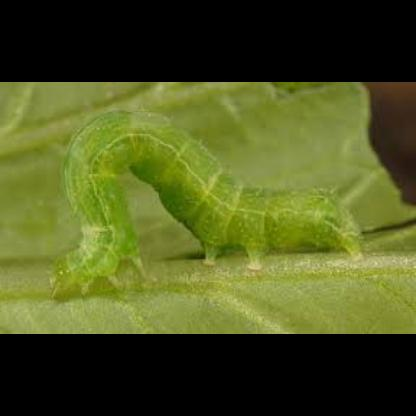oruga: (41, 105, 364, 307)
